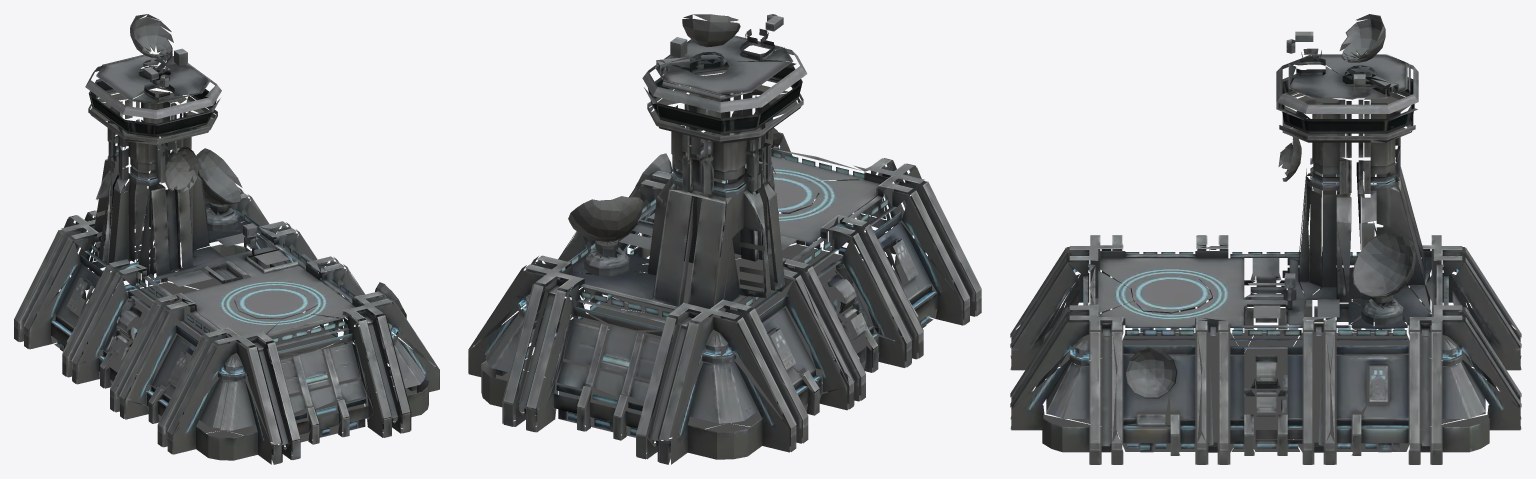
File: headquarters_LOD2.glb
The picture shows the model from 3 angles, left to right: view 1: azimuth 30°, elevation 25°; view 2: azimuth 150°, elevation 25°; view 3: azimuth 270°, elevation 25°; orthographic projection. The views are drawn at different scales.
Visible parts, largest first — view 1: headquarters_LOD2; view 2: headquarters_LOD2; view 3: headquarters_LOD2.
Part boxes in pixels (x1=…): headquarters_LOD2: x1=14, y1=14, x2=439, y2=464; headquarters_LOD2: x1=468, y1=14, x2=981, y2=464; headquarters_LOD2: x1=1010, y1=14, x2=1521, y2=464.
Bounding box in the file's own units: 0.6712 × 0.7671 × 1.
1 material, 1 textured.
